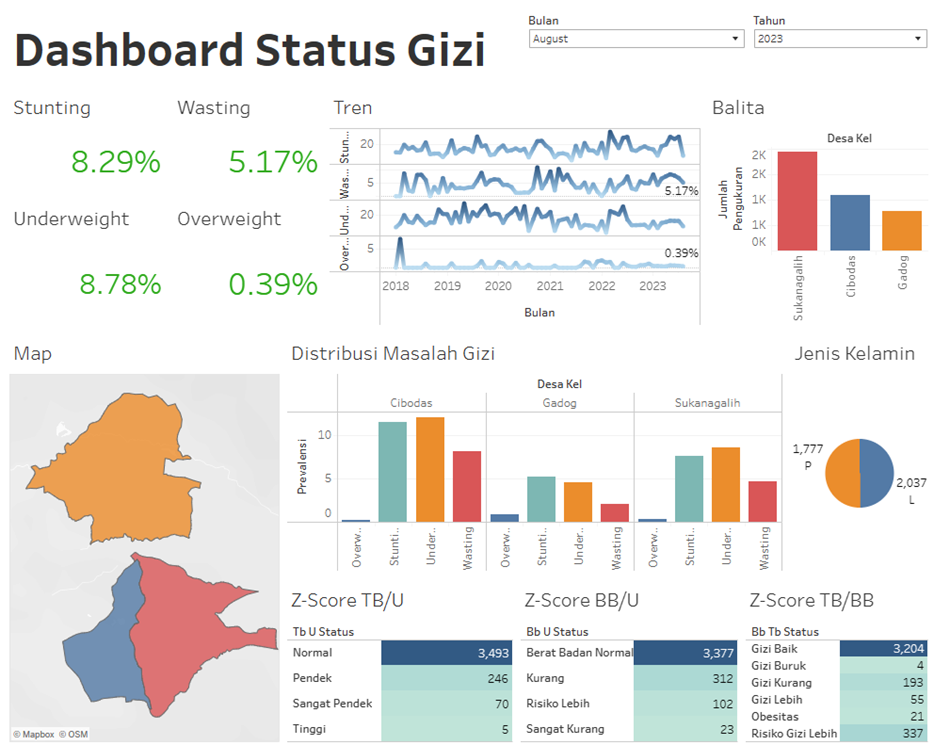

The dashboard page shown, as its layout file describes it:
{"tool":"tableau","page":{"name":"Dashboard 1","canvas":[1000,800],"ordinal":0},"visuals":[{"type":"worksheet","title":"Judul","mark":"Automatic","box":[8,8,551,80.9]},{"type":"filter","title":"Stunting","param":"[federated.06akopg1d7izan1fdcvjf15s0t7r].[mn:date_id:ok]","box":[559,8,238.9,80.9]},{"type":"filter","title":"Stunting","param":"[federated.06akopg1d7izan1fdcvjf15s0t7r].[yr:date_id:ok]","box":[797.8,8,194.2,80.9]},{"type":"worksheet","title":"Stunting","mark":"Automatic","box":[8,88.9,174,118.5]},{"type":"worksheet","title":"Wasting","mark":"Automatic","box":[182,88.9,166,118.5]},{"type":"worksheet","title":"Tren","mark":"Automatic","rows":["Calculation_1261007916627562497","Calculation_295548746929815553","Calculation_295548746930544642","Calculation_295548746929483776"],"cols":["date_id"],"box":[347.9,88.9,402,261.1]},{"type":"worksheet","title":"Balita","mark":"Automatic","rows":["pengukuran_id"],"cols":["desa_kel"],"box":[750,88.9,242,261.1]},{"type":"worksheet","title":"Underweight","mark":"Automatic","box":[8,207.4,174,142.6]},{"type":"worksheet","title":"Overweight","mark":"Automatic","box":[182,207.4,166,142.6]},{"type":"worksheet","title":"Map","mark":"Automatic","box":[8,350,294.9,442]},{"type":"worksheet","title":"Distribusi Masalah Gizi","mark":"Automatic","cols":["desa_kel"],"box":[302.9,350,535,262]},{"type":"worksheet","title":"Jenis Kelamin","mark":"Pie","box":[837.9,350,154.1,262]},{"type":"worksheet","title":"Z-Score TB/U","mark":"Square","rows":["tb_u_status"],"box":[302.9,612,248,180]},{"type":"worksheet","title":"Z-Score BB/U","mark":"Square","rows":["bb_u_status"],"box":[550.9,612,239,180]},{"type":"worksheet","title":"Z-Score BB/TB","mark":"Square","rows":["bb_tb_status"],"box":[789.9,612,202.1,180]}]}

Visuals, with their boxes in screenshot pixels (x1, y1, x2, y2), scaled from the page's 1000x800 canvas onto the 934x745 screenshot:
"Judul" worksheet: x1=7 y1=7 x2=522 y2=83
"Stunting" filter: x1=522 y1=7 x2=745 y2=83
"Stunting" filter: x1=745 y1=7 x2=927 y2=83
"Stunting" worksheet: x1=7 y1=83 x2=170 y2=193
"Wasting" worksheet: x1=170 y1=83 x2=325 y2=193
"Tren" worksheet: x1=325 y1=83 x2=700 y2=326
"Balita" worksheet: x1=700 y1=83 x2=927 y2=326
"Underweight" worksheet: x1=7 y1=193 x2=170 y2=326
"Overweight" worksheet: x1=170 y1=193 x2=325 y2=326
"Map" worksheet: x1=7 y1=326 x2=283 y2=738
"Distribusi Masalah Gizi" worksheet: x1=283 y1=326 x2=783 y2=570
"Jenis Kelamin" worksheet (Pie marks): x1=783 y1=326 x2=927 y2=570
"Z-Score TB/U" worksheet (Square marks): x1=283 y1=570 x2=515 y2=738
"Z-Score BB/U" worksheet (Square marks): x1=515 y1=570 x2=738 y2=738
"Z-Score BB/TB" worksheet (Square marks): x1=738 y1=570 x2=927 y2=738
